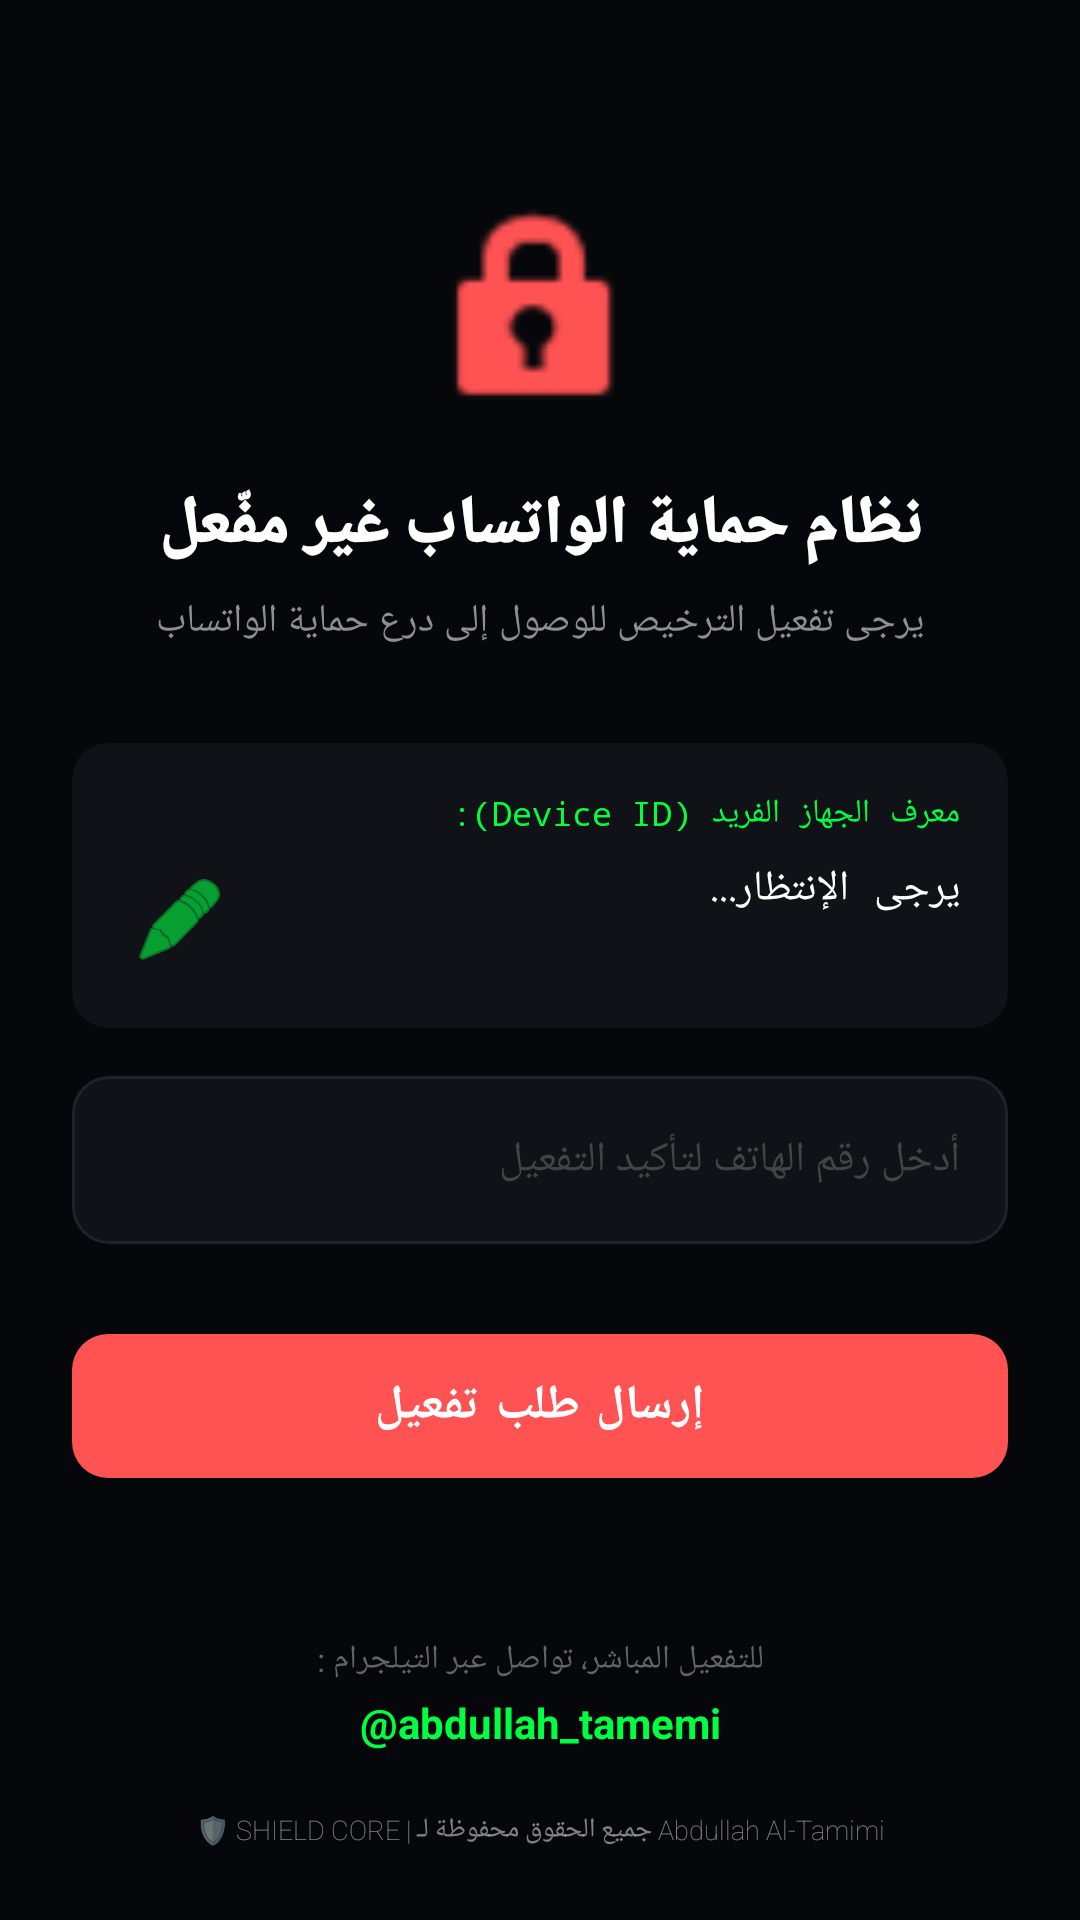

Point at icon controls on the screen. Image size 1080px×1920px, points as (x,y).
edit: (179,919)
lock idle: (535,303)
